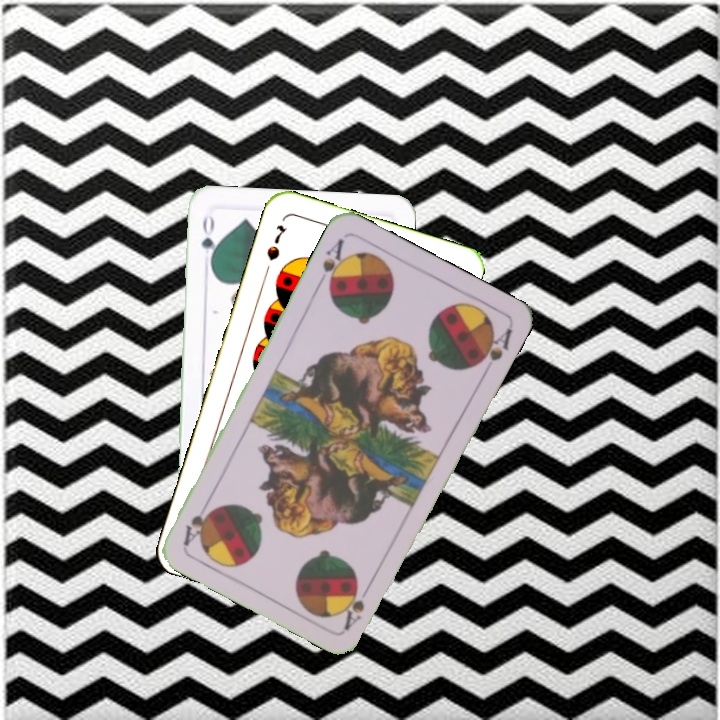GO: (197, 210, 220, 269)
S7: (262, 220, 289, 264)
SA: (313, 234, 350, 293), (340, 577, 375, 633)
